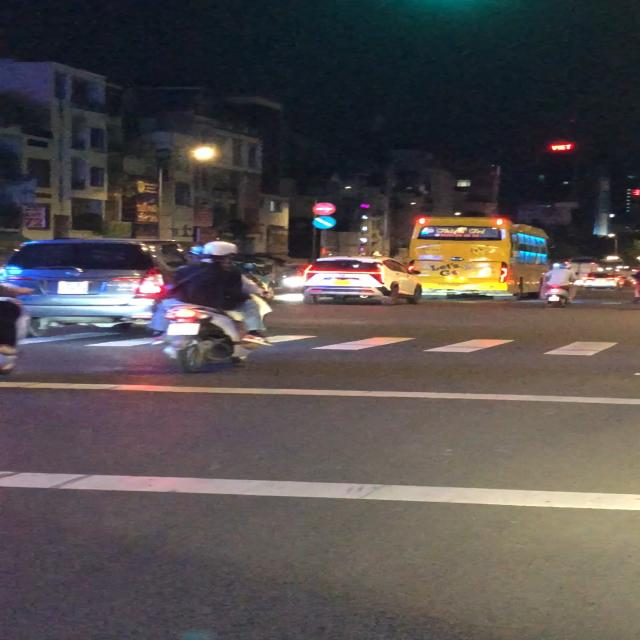Bien bao cam di nguoc chieu: (311, 202, 337, 216)
Bien bao huong phai di vong chuong ngai vat: (312, 216, 338, 229)
